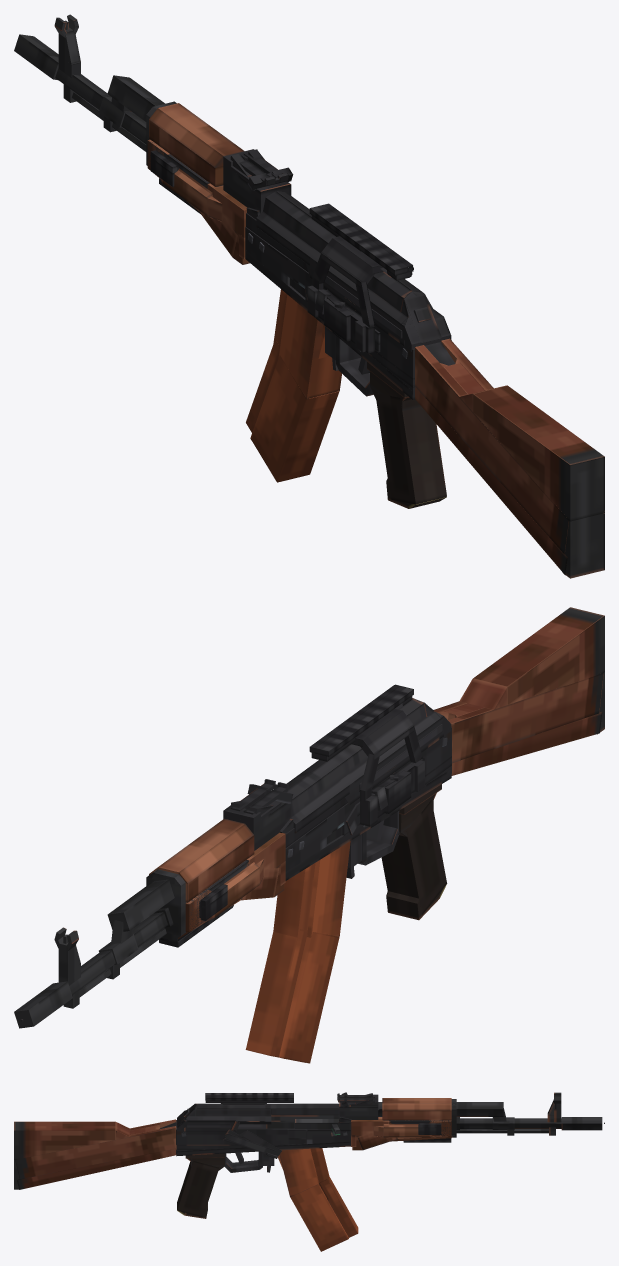
3 views of the same model, one above another, from view 1: azimuth 30°, elevation 25°; view 2: azimuth 150°, elevation 25°; view 3: azimuth 270°, elevation 25° (orthographic). The views are drawn at different scales.
Visible parts, largest first — view 1: gun_122, magazine_5, ak74_guard_27, scopemount_16, ak74_railedguard_24; view 2: gun_122, magazine_5, ak74_guard_27, scopemount_16, ak74_railedguard_24; view 3: gun_122, magazine_5, ak74_guard_27, action_5, scopemount_16, switch_6, ak74_railedguard_24.
Part boxes in pixels (x1,y1,x2,y2): gun_122: (14, 14, 604, 578); magazine_5: (246, 289, 341, 482); ak74_guard_27: (147, 103, 249, 264); scopemount_16: (307, 203, 413, 353); ak74_railedguard_24: (148, 140, 209, 213); gun_122: (14, 607, 604, 1028); magazine_5: (245, 841, 350, 1063); ak74_guard_27: (149, 818, 285, 938); scopemount_16: (309, 684, 424, 826); ak74_railedguard_24: (159, 860, 249, 947); gun_122: (14, 1092, 602, 1218); magazine_5: (277, 1148, 358, 1251); ak74_guard_27: (351, 1098, 451, 1150); action_5: (266, 1115, 340, 1135); scopemount_16: (205, 1093, 293, 1104); switch_6: (223, 1129, 281, 1158); ak74_railedguard_24: (352, 1120, 451, 1148).
Size of the model in its own units: 0.5317 by 2.04 by 7.07.
